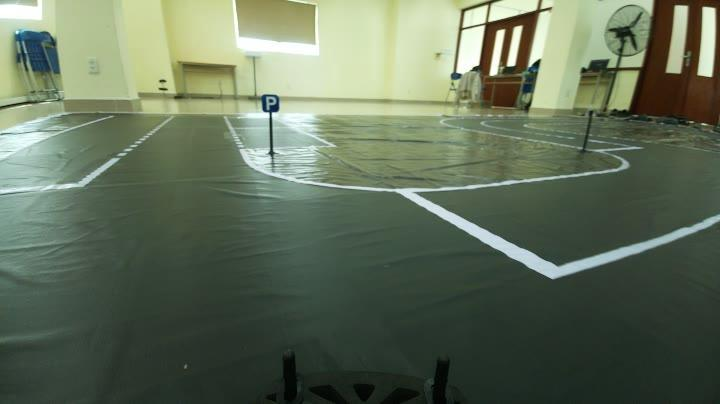parking: (256, 91, 282, 109)
